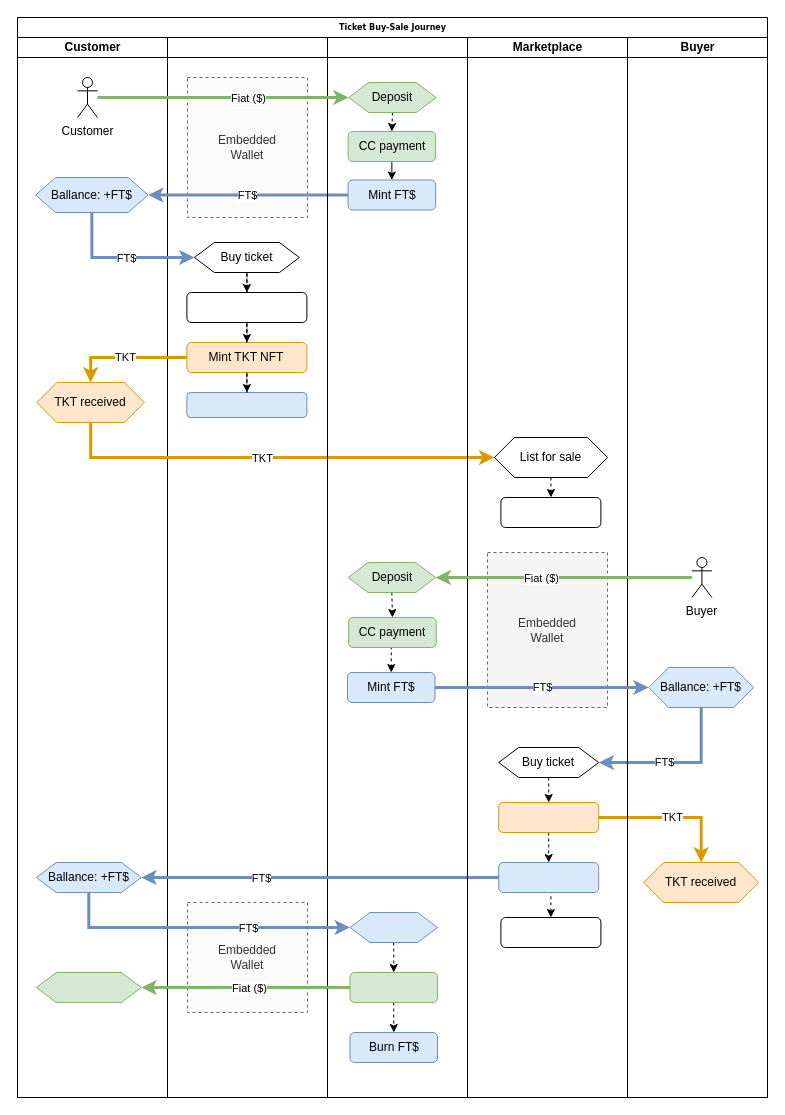
Some shapes in this 785 by 1115 pixel diagram are drawn without their labels. Each missing label, with the box of its shape:
Burn $FT: (186, 392, 307, 418)
Close listing: (500, 916, 601, 948)
Create listing: (500, 496, 601, 528)
Fiat received: (35, 972, 141, 1002)
Lock seats: (186, 292, 307, 322)
Ticketing: (166, 36, 328, 1098)
Tranfer fiat: (349, 972, 438, 1002)
Transfer $FT: (498, 862, 599, 892)
Transfer TKT: (498, 802, 599, 832)
Wallet: (326, 36, 468, 1098)
Withdraw: (349, 912, 438, 942)
